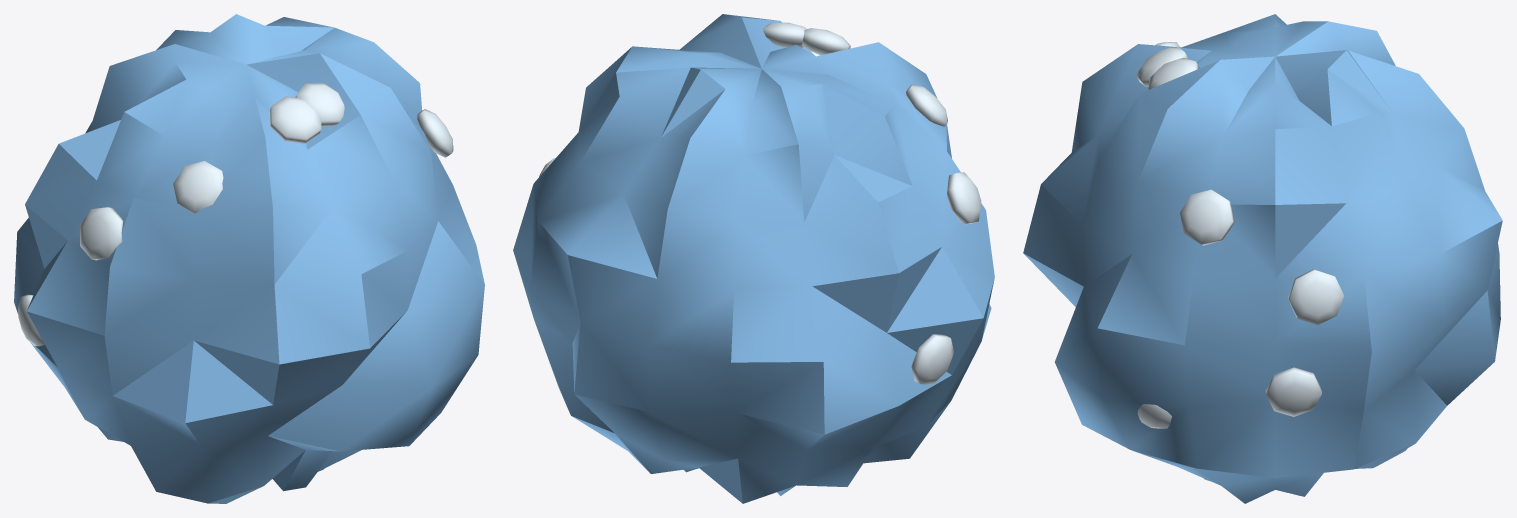
The model's file is FrostTruffle.fbx.
3 views of the same model, side by side, from view 1: azimuth 30°, elevation 25°; view 2: azimuth 150°, elevation 25°; view 3: azimuth 270°, elevation 25° (orthographic).
Parts seen in each view (by area): view 1: Handle, Spot, Spot.002, Spot.007, Spot.001, Spot.004, Spot.006; view 2: Handle, Spot.006, Spot.007, Spot, Spot.002, Spot.001; view 3: Handle, Spot.003, Spot.004, Spot.008, Spot.002, Spot.001, Spot.005.
Part boxes in pixels (x1,y1,x2,y2): Handle: [14, 14, 484, 503]; Spot: [173, 161, 223, 213]; Spot.002: [269, 96, 321, 143]; Spot.007: [80, 207, 123, 260]; Spot.001: [295, 83, 344, 126]; Spot.004: [417, 109, 453, 157]; Spot.006: [18, 294, 44, 346]; Handle: [513, 14, 994, 503]; Spot.006: [911, 334, 953, 384]; Spot.007: [946, 172, 981, 224]; Spot: [906, 84, 947, 126]; Spot.002: [802, 28, 850, 55]; Spot.001: [763, 22, 806, 47]; Handle: [1023, 14, 1502, 503]; Spot.003: [1288, 269, 1344, 325]; Spot.004: [1180, 189, 1234, 245]; Spot.008: [1265, 367, 1321, 416]; Spot.002: [1136, 47, 1188, 86]; Spot.001: [1148, 57, 1199, 89]; Spot.005: [1137, 404, 1171, 428].
Size of the model in its own units: 1.18 by 1.14 by 1.14.
